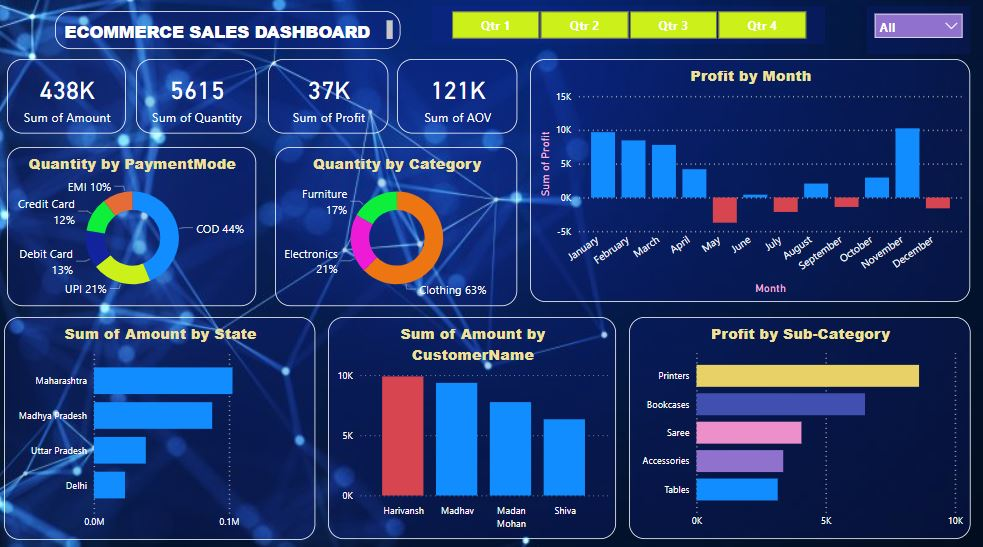

Layout of this report page (visuals, bound fields, positions):
{"tool":"powerbi","page":{"name":"Page 1","canvas":[1280,720],"ordinal":0},"visuals":[{"type":"columnChart","title":"Profit by Month","fields":{"Category":["Orders.Order Date.Variation.Date Hierarchy.Month"],"Y":["Details.Profit"]},"box":[688.7,84,591.3,312.4],"z":0},{"type":"textbox","box":[77.3,21.8,445.1,48.7],"z":1000},{"type":"clusteredBarChart","title":"Profit by Sub-Category","fields":{"Category":["Details.Sub-Category"],"Y":["Details.Profit"]},"box":[816.4,416.6,440.1,285.6],"z":2000},{"type":"donutChart","title":"Quantity by Category","fields":{"Category":["Details.Category"],"Y":["Details.Quantity"]},"box":[361.2,196.5,312.4,204.9],"z":3000},{"type":"donutChart","title":"Quantity by PaymentMode","fields":{"Category":["Details.PaymentMode"],"Y":["Details.Quantity"]},"box":[15.1,196.5,320.8,204.9],"z":3001},{"type":"card","fields":{"Values":["Details.Amount"]},"box":[15.1,84,152.9,95.7],"z":3002},{"type":"card","fields":{"Values":["Details.Quantity"]},"box":[181.4,84,154.5,95.7],"z":3003},{"type":"card","fields":{"Values":["Details.Profit"]},"box":[351.1,84,154.5,95.7],"z":3004},{"type":"card","fields":{"Values":["Details.AOV"]},"box":[517.4,84,154.5,95.7],"z":3005},{"type":"clusteredBarChart","title":"Sum of Amount by State","fields":{"Y":["Details.Amount"],"Category":["Orders.State"]},"box":[11.8,416.6,401.5,287.2],"z":3006},{"type":"columnChart","fields":{"Y":["Details.Amount"],"Category":["Orders.CustomerName"]},"box":[428.3,416.6,371.2,285.6],"z":3007},{"type":"slicer","fields":{"Values":["Orders.Order Date.Variation.Date Hierarchy.Quarter"]},"box":[562.7,15.1,505.6,48.7],"z":3008},{"type":"slicer","fields":{"Values":["Orders.State"]},"box":[1123.8,15.1,132.7,62.2],"z":3009}]}

Visuals, with their boxes in screenshot pixels (x1, y1, x2, y2), scaled from the page's 1280x720 canvas onto the 983x547 screenshot:
"Profit by Month" columnChart: select_region(529, 64, 982, 301)
textbox: select_region(59, 17, 401, 54)
"Profit by Sub-Category" clusteredBarChart: select_region(627, 317, 965, 533)
"Quantity by Category" donutChart: select_region(277, 149, 517, 305)
"Quantity by PaymentMode" donutChart: select_region(12, 149, 258, 305)
card - Details.Amount: select_region(12, 64, 129, 137)
card - Details.Quantity: select_region(139, 64, 258, 137)
card - Details.Profit: select_region(270, 64, 388, 137)
card - Details.AOV: select_region(397, 64, 516, 137)
"Sum of Amount by State" clusteredBarChart: select_region(9, 317, 317, 535)
columnChart - Details.Amount x Orders.CustomerName: select_region(329, 317, 614, 533)
slicer - Orders.Order Date.Variation.Date Hierarchy.Quarter: select_region(432, 11, 820, 48)
slicer - Orders.State: select_region(863, 11, 965, 59)
